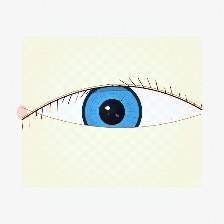pinguecula_lesion: (34, 98, 80, 135)
